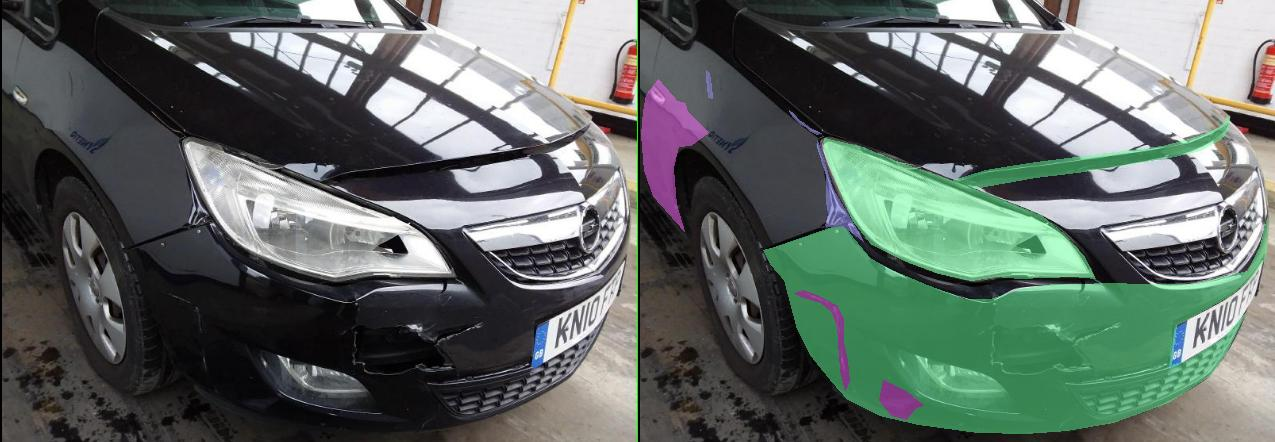Broken part: (250, 218, 1259, 433), (372, 138, 915, 280), (630, 116, 1183, 188)
Dent: (6, 79, 140, 231), (312, 290, 422, 390), (482, 380, 570, 419), (44, 100, 106, 145), (374, 191, 418, 225)
Scratch: (358, 140, 450, 241), (302, 110, 366, 134), (136, 70, 148, 98)
